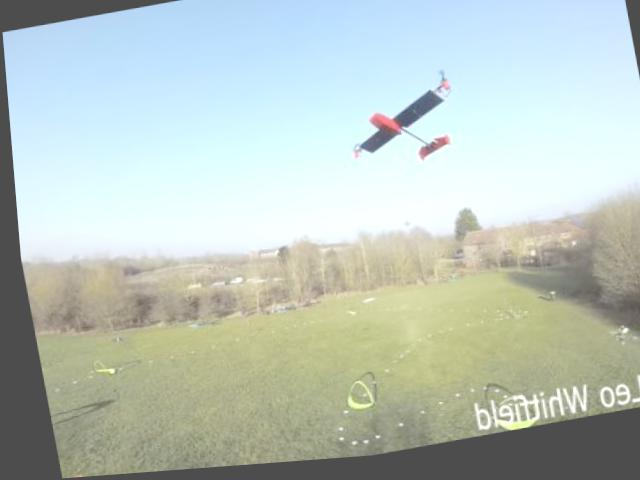uav: (331, 67, 472, 193)
